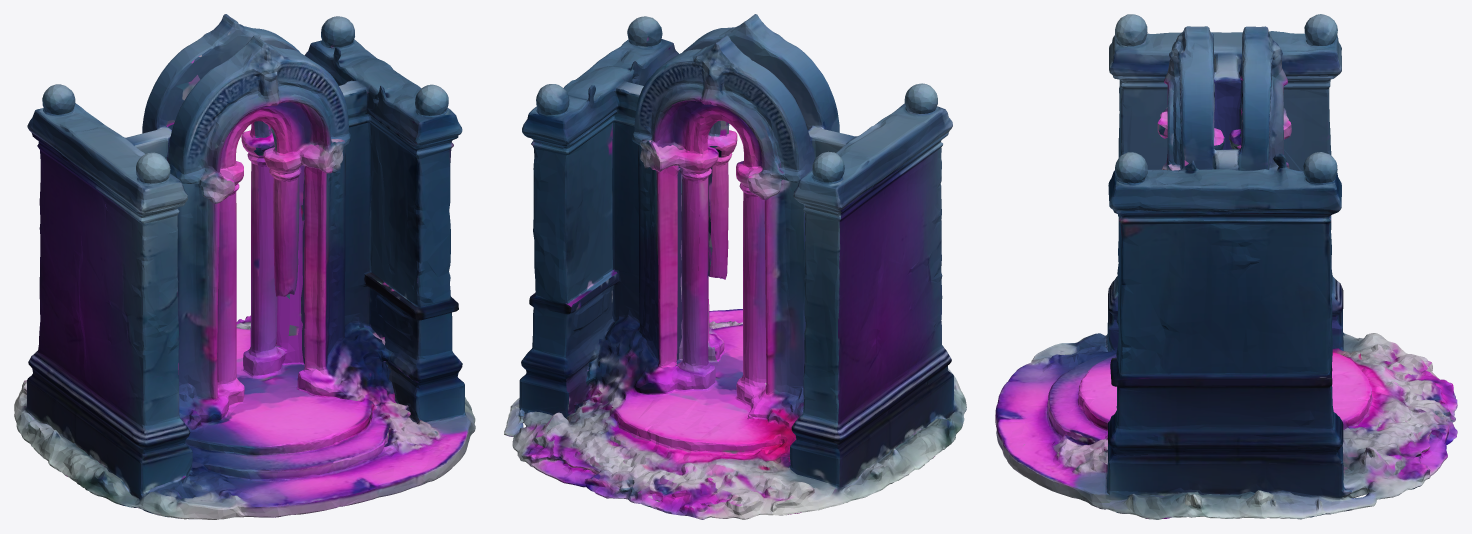
Rendered from ruin-dais-generated-2026-04-19T23-21-06-179Z.high.glb.
3 renders of one model, left to right at view 1: azimuth 30°, elevation 25°; view 2: azimuth 150°, elevation 25°; view 3: azimuth 270°, elevation 25°, orthographic.
Parts seen in each view (by area): view 1: temp_mesh.ply; view 2: temp_mesh.ply; view 3: temp_mesh.ply.
Boxes of the visible parts, left/top/right/bottom form: temp_mesh.ply: left=14, top=14, right=475, bottom=519; temp_mesh.ply: left=504, top=14, right=966, bottom=519; temp_mesh.ply: left=995, top=14, right=1457, bottom=519.
Bounding box in the file's own units: 1.89 × 1.88 × 1.96.
1 material, 1 textured.
